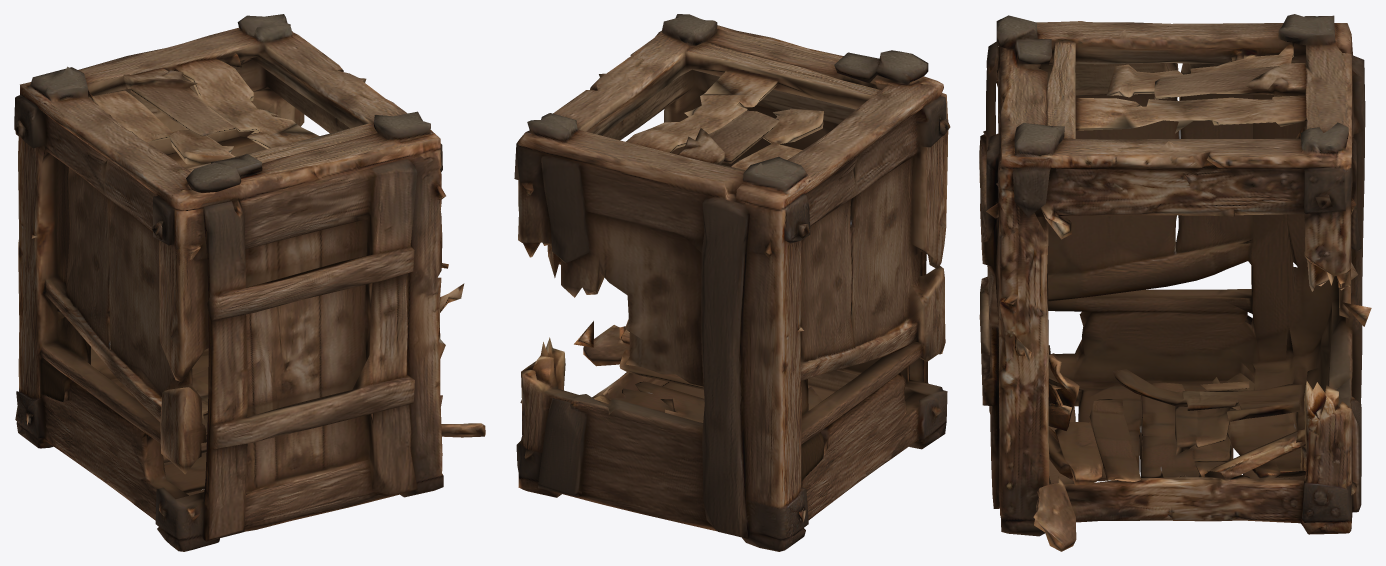
Rendered from wood_crate.glb.
3 views of the same model, side by side, from view 1: azimuth 30°, elevation 25°; view 2: azimuth 150°, elevation 25°; view 3: azimuth 270°, elevation 25° (orthographic). The views are drawn at different scales.
Visible parts, largest first — view 1: tripo_node_fb85cfdf-3870-4307-8c12-39592ad21306; view 2: tripo_node_fb85cfdf-3870-4307-8c12-39592ad21306; view 3: tripo_node_fb85cfdf-3870-4307-8c12-39592ad21306.
Part boxes in pixels (<box>): tripo_node_fb85cfdf-3870-4307-8c12-39592ad21306: <box>14,14,485,551</box>; tripo_node_fb85cfdf-3870-4307-8c12-39592ad21306: <box>514,14,950,551</box>; tripo_node_fb85cfdf-3870-4307-8c12-39592ad21306: <box>979,14,1371,551</box>.
Size of the model in its own units: 0.9775 by 1 by 0.8946.
1 material, 1 textured.
